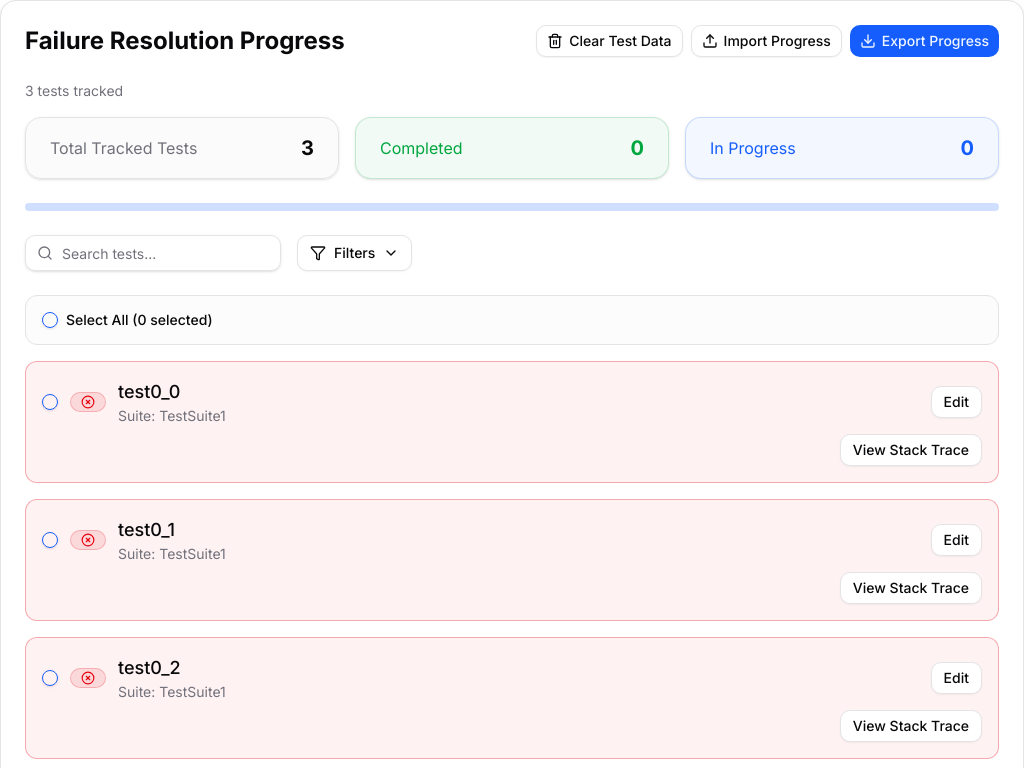
Test: FailureAnalysisProgress › Bulk Actions › should select and deselect individual tests
Select first test
Click the checkbox named "Select test0_0": (50, 402) [42,394,58,410]
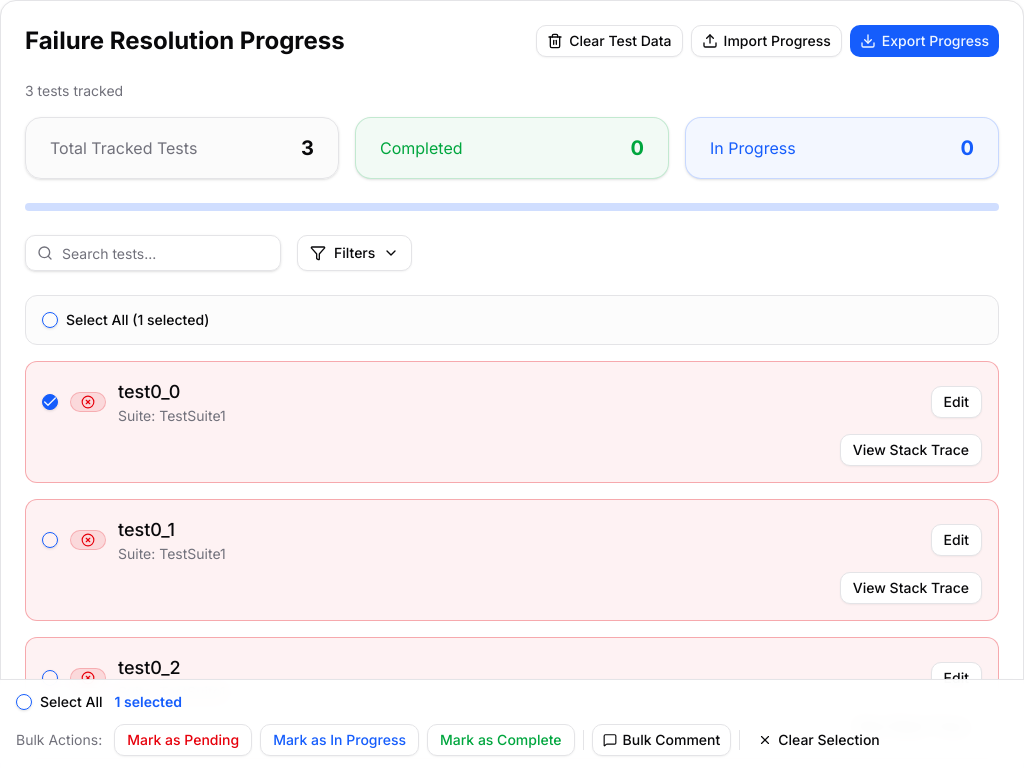
Now the text "Select All (1 selected)" is shown, box [42,312,209,328]
Select second test
Click the checkbox named "Select test0_1": (50, 540) [42,532,58,548]
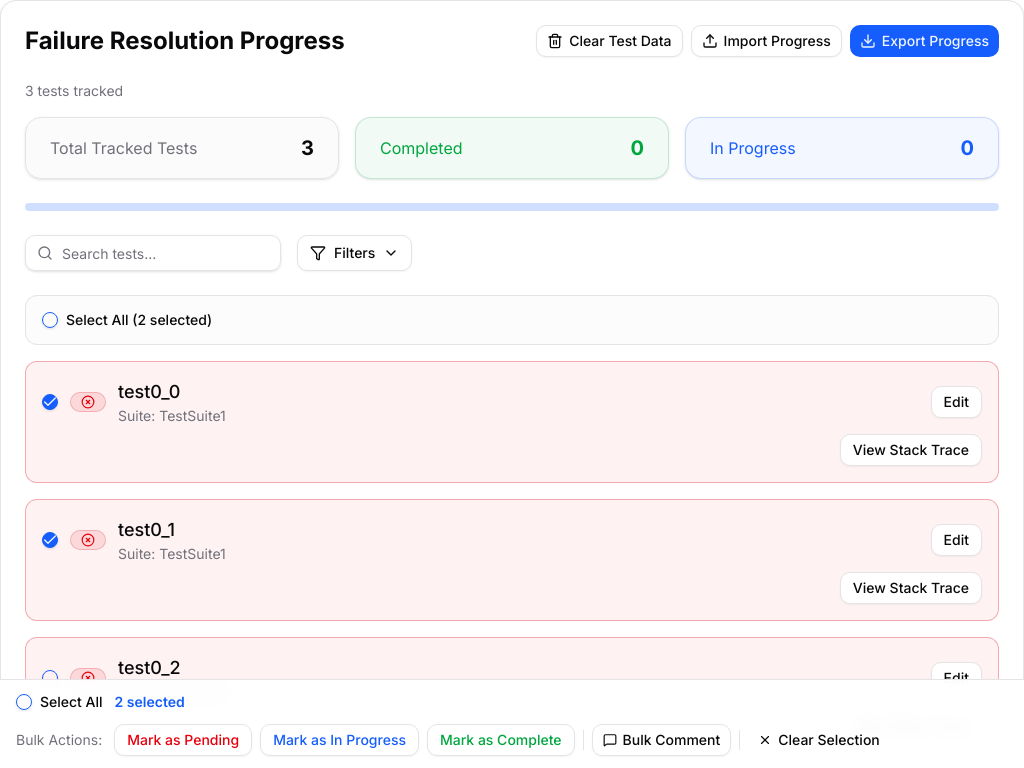
Now the text "Select All (2 selected)" is shown, box [42,312,212,328]
Deselect first test
Click the checkbox named "Select test0_0": (50, 402) [42,394,58,410]
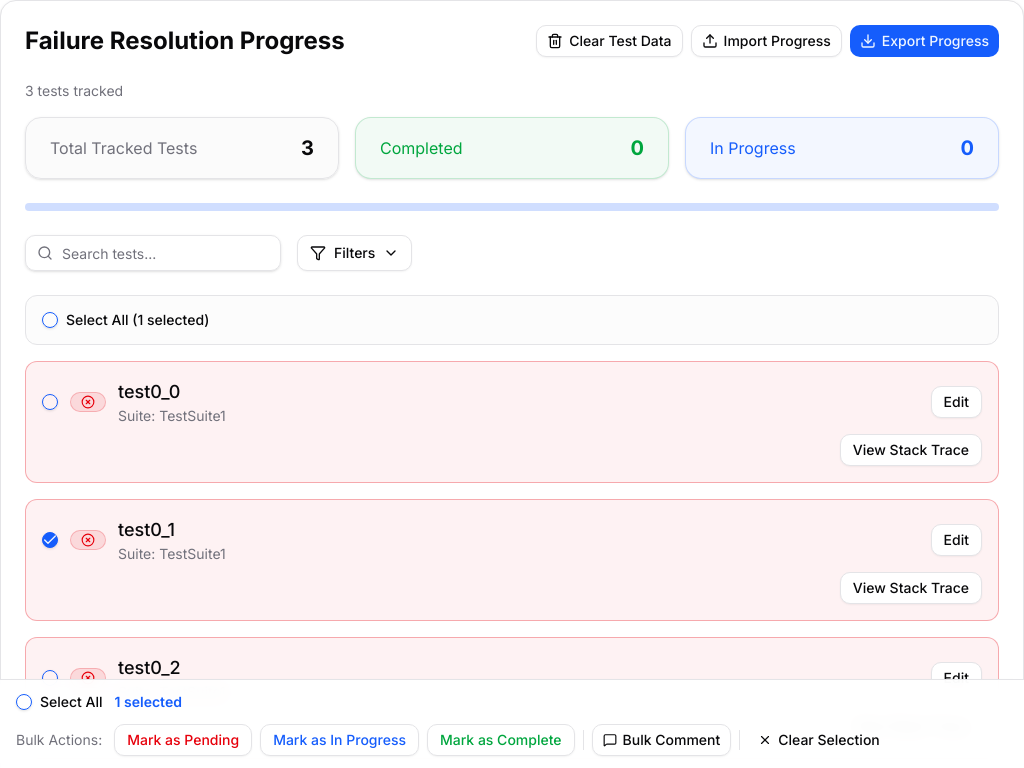
Now the text "Select All (1 selected)" is shown, box [42,312,209,328]
